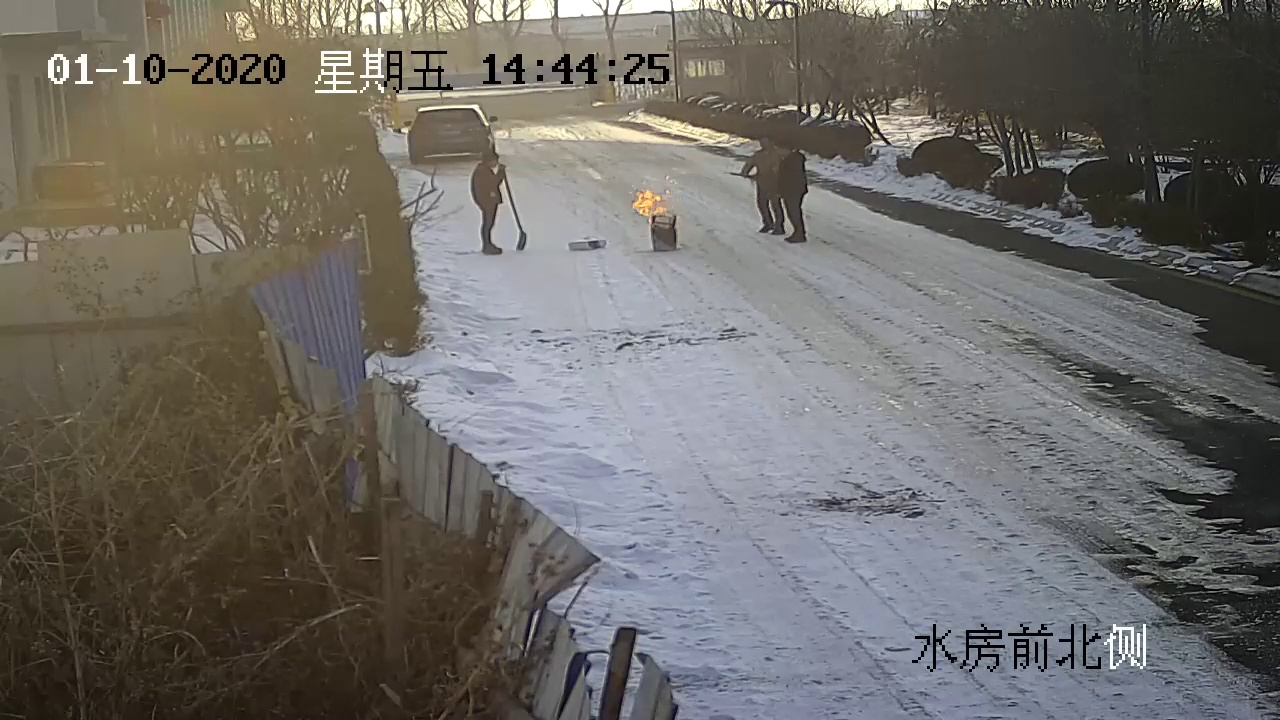fire: (629, 182, 664, 217)
